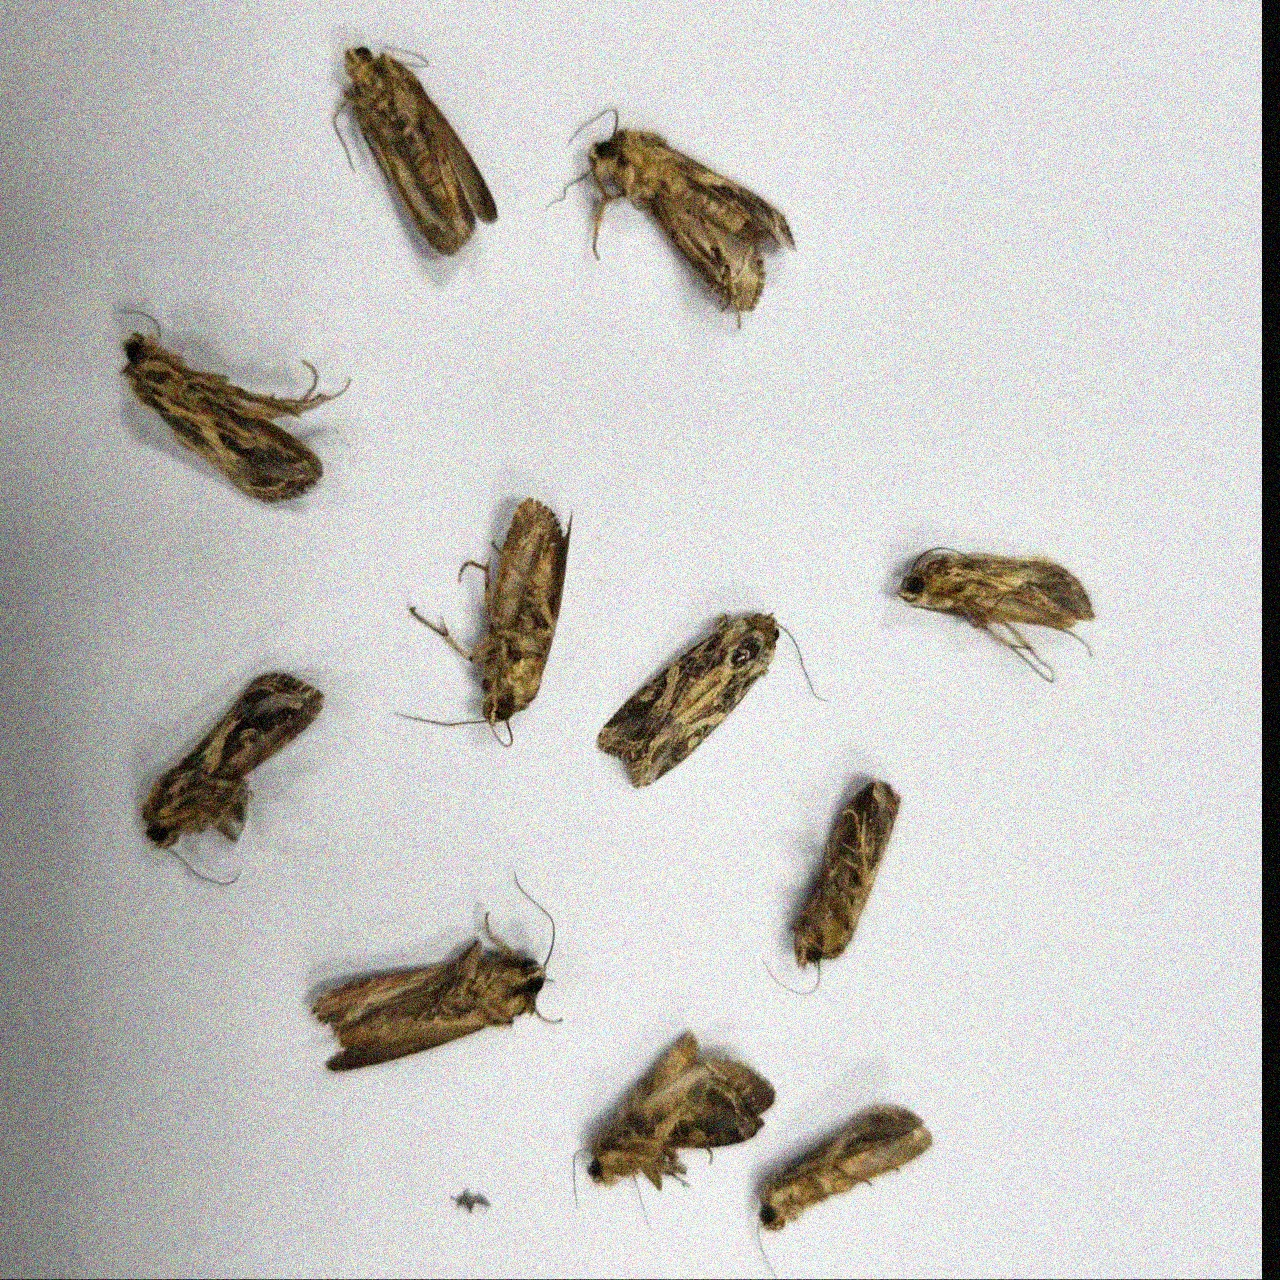Spodoptera litura: (543, 107, 796, 331), (309, 870, 561, 1073), (117, 308, 350, 505), (393, 496, 572, 747), (597, 611, 828, 789), (571, 1030, 775, 1232), (142, 670, 322, 884), (331, 42, 499, 258), (755, 1103, 932, 1276), (760, 779, 900, 996), (898, 546, 1094, 682)
